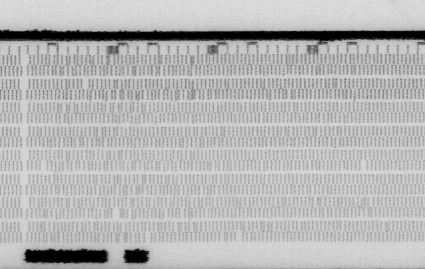Broken hole: (109, 207, 122, 221), (37, 159, 49, 172), (79, 78, 91, 90), (234, 231, 245, 244), (143, 232, 154, 244), (358, 160, 369, 171)
Oblique printing: (42, 53, 202, 126), (60, 150, 139, 173), (63, 124, 126, 151), (108, 174, 157, 198), (157, 206, 199, 220), (356, 194, 376, 218), (171, 220, 199, 232), (378, 219, 392, 234), (259, 78, 272, 92), (286, 88, 298, 101), (312, 196, 324, 208), (308, 125, 319, 138)
